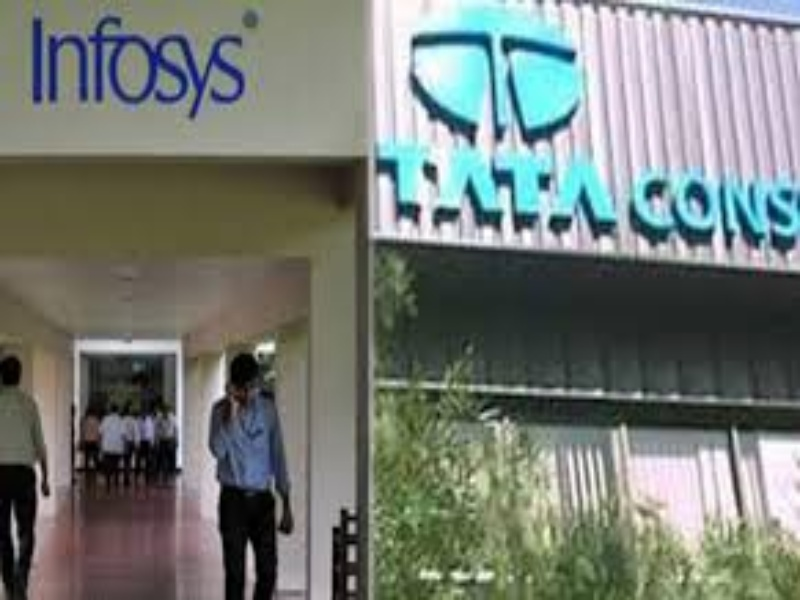tcs: (406, 2, 586, 144)
